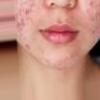Acne: (12, 21, 28, 38), (87, 1, 100, 15), (20, 10, 33, 20)
